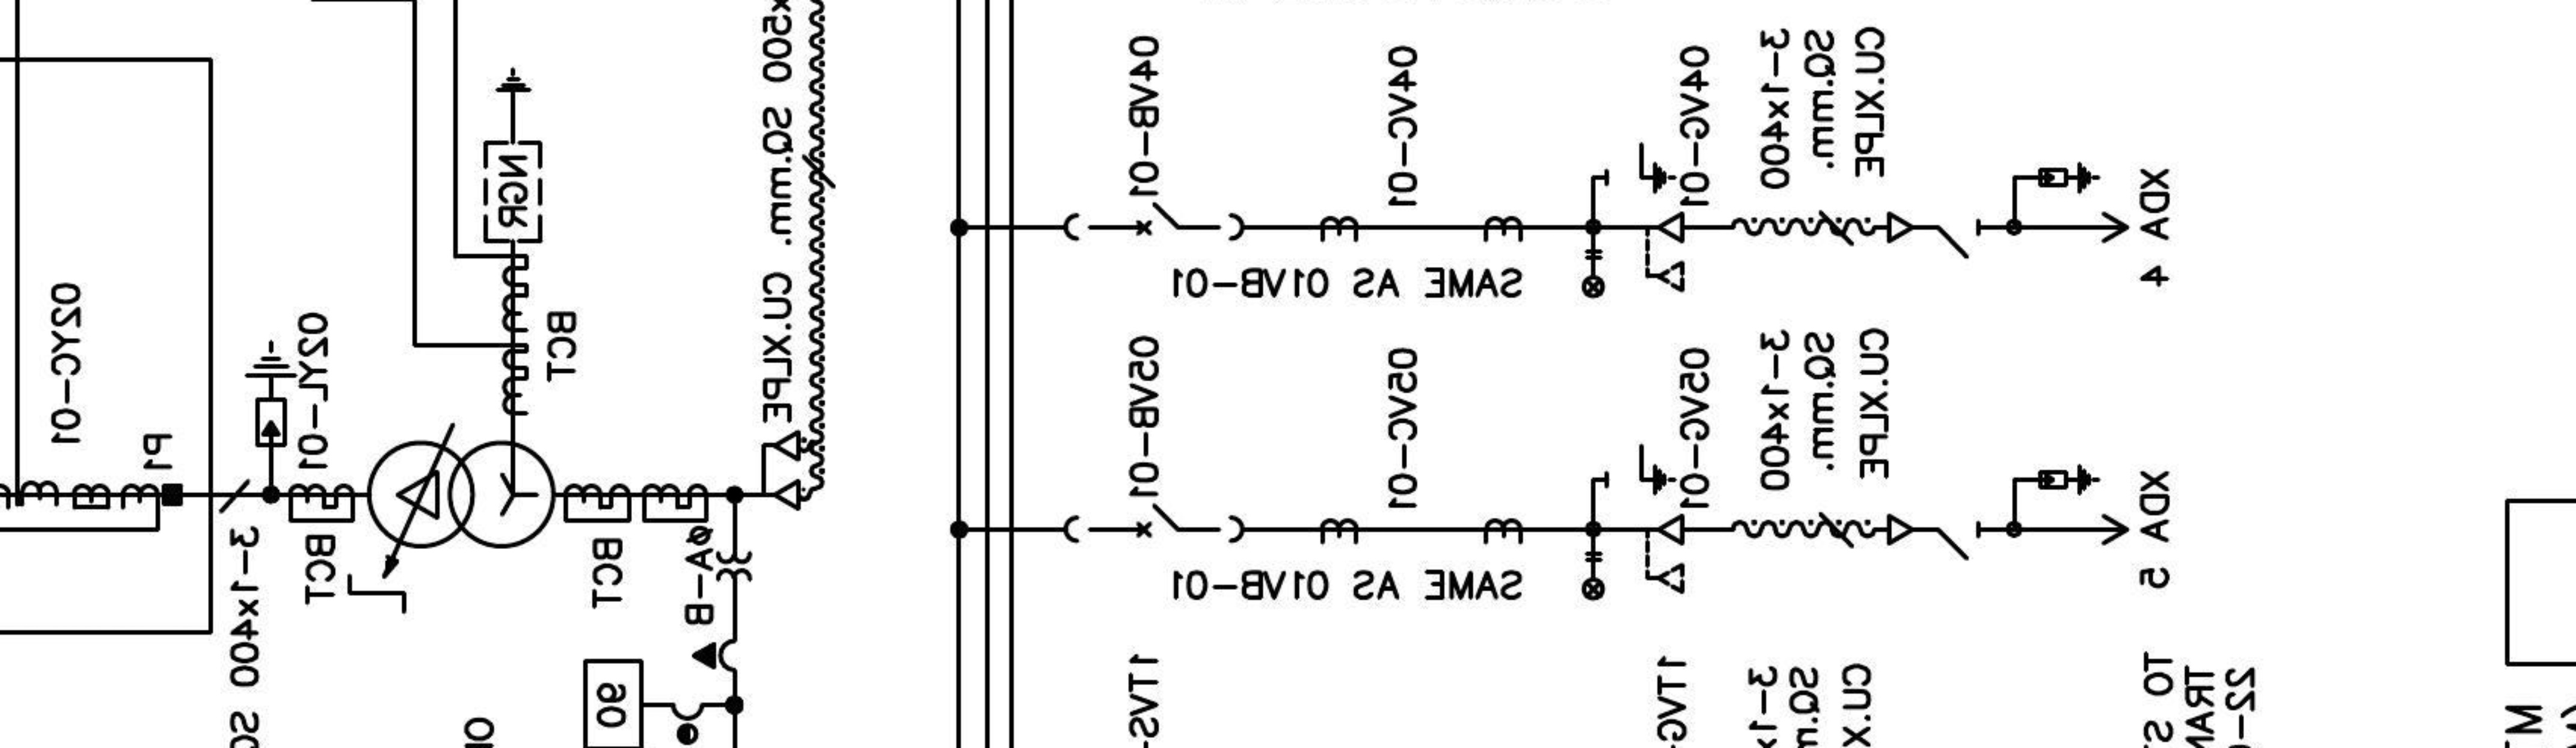11522_tx_dyn1: (366, 439, 557, 551)
115_la: (243, 339, 299, 449)
22_breaker: (1061, 501, 1245, 544), (1063, 199, 1245, 242)
22_ds_la_out: (1937, 159, 2131, 260), (1937, 462, 2131, 562)
22_gs: (1603, 138, 1679, 194), (1603, 442, 1679, 496)
22_ll: (1580, 248, 1607, 299), (1580, 551, 1605, 602)
NGR_future: (483, 66, 544, 243)
terminator_double: (761, 429, 802, 511)
terminator_single: (1884, 513, 1916, 547), (1886, 210, 1916, 245)
terminator_w_future: (1644, 209, 1686, 294), (1644, 511, 1686, 597)
